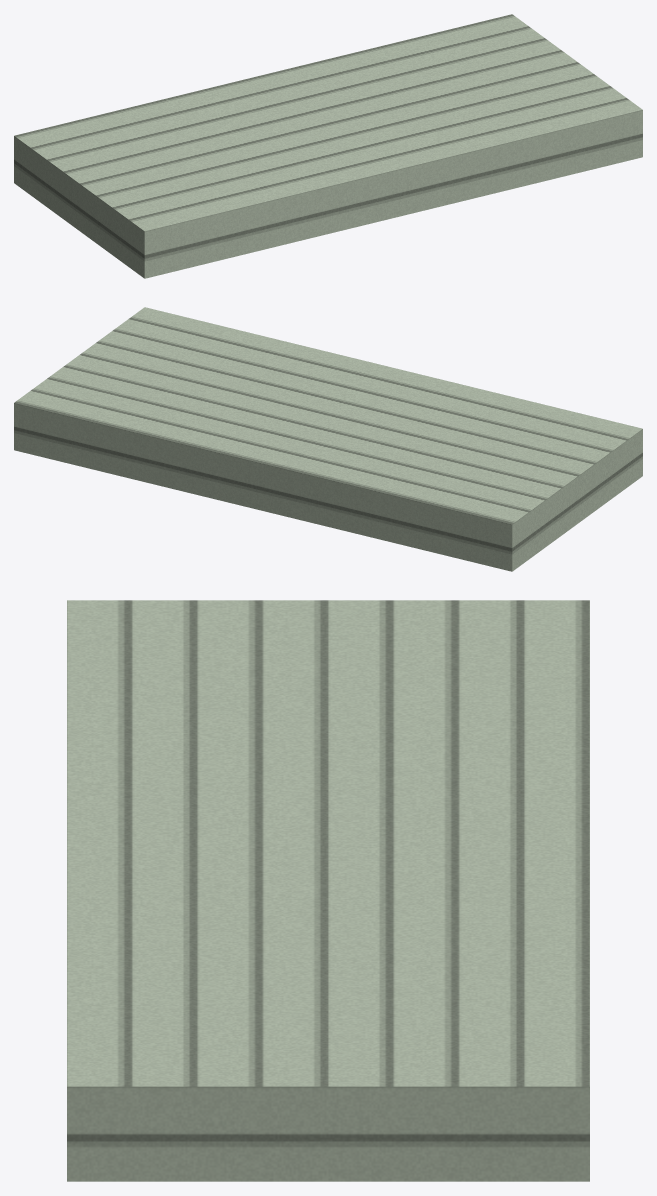
The model's file is hydraulic_lift.glb.
The picture shows the model from 3 angles, top to bottom: view 1: azimuth 30°, elevation 25°; view 2: azimuth 150°, elevation 25°; view 3: azimuth 270°, elevation 25°; orthographic projection. The views are drawn at different scales.
Visible parts, largest first — view 1: hydraulic_lift-col; view 2: hydraulic_lift-col; view 3: hydraulic_lift-col.
Boxes of the visible parts, <box> form: hydraulic_lift-col: <box>14,14,642,278</box>; hydraulic_lift-col: <box>14,307,642,571</box>; hydraulic_lift-col: <box>67,600,589,1181</box>.
Size of the model in its own units: 2.2 by 0.2 by 1.
1 material, 1 textured.
